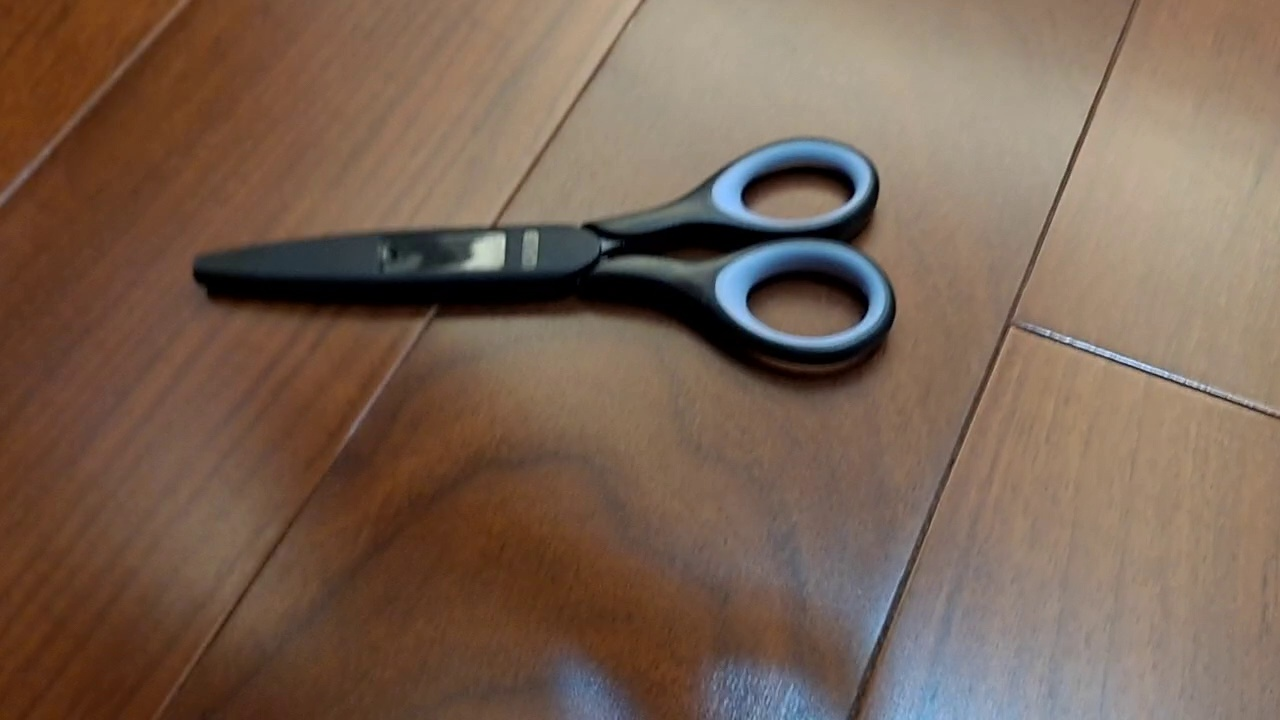scissors: (191, 133, 897, 369)
